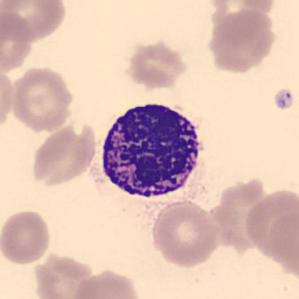Basophil: (88, 93, 212, 211)
Platelets: (271, 88, 295, 111)
RBC: (205, 5, 278, 76), (148, 198, 221, 268), (28, 119, 98, 188), (8, 64, 76, 134), (242, 184, 298, 260), (215, 177, 268, 256), (122, 38, 190, 90), (31, 251, 98, 299), (0, 207, 53, 267), (0, 0, 68, 44), (206, 0, 276, 37), (70, 267, 144, 299), (0, 9, 34, 76), (0, 67, 16, 135)
